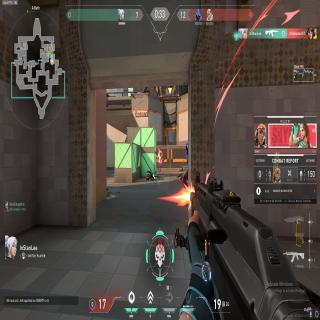ENEMY-BODY: (182, 139, 188, 190), (158, 154, 162, 174)
ENEMY-HEAD: (186, 139, 188, 153)
